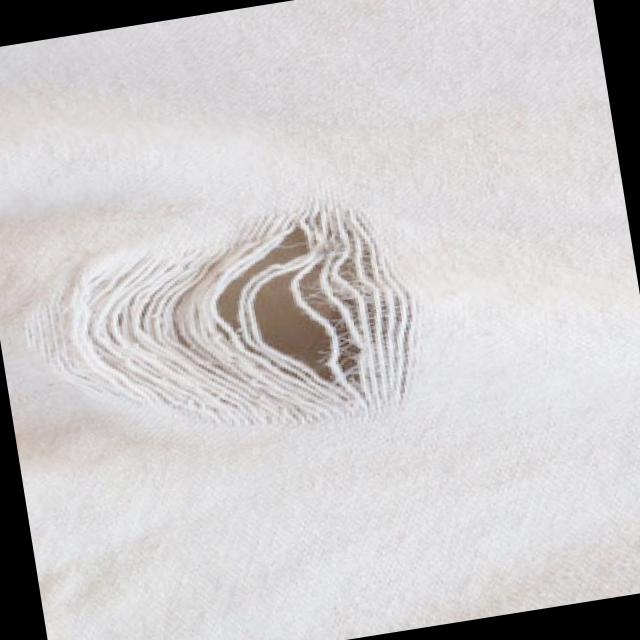hole: (8, 175, 436, 474)
